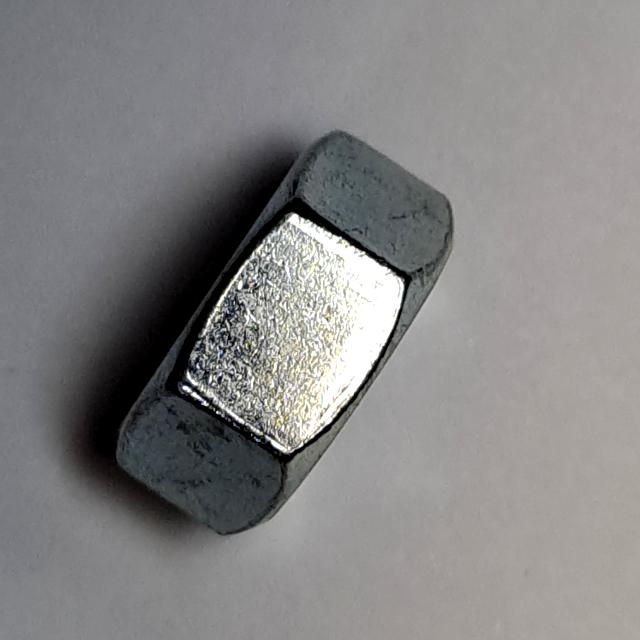Side_Excellent: (91, 106, 489, 562)
